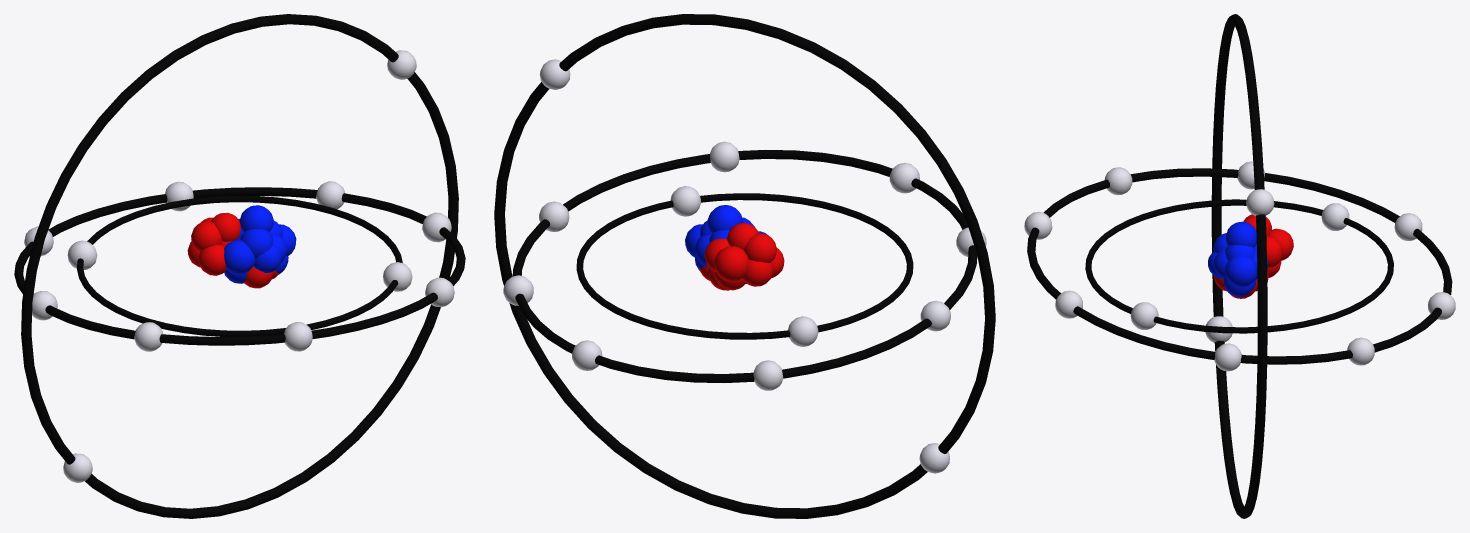
The model's file is 12 Magnesio.fbx.
3 views of the same model, side by side, from view 1: azimuth 30°, elevation 25°; view 2: azimuth 150°, elevation 25°; view 3: azimuth 270°, elevation 25° (orthographic). The views are drawn at different scales.
Visible parts, largest first — view 1: Orbita.003, Orbita.002, Orbita.001, Neutron.004, Neutron.001, Sphere.002, Electron.006, Sphere.004, Electron.003, Electron.001, Neutron.003, Electron.005 (+9 smaller); view 2: Orbita.003, Orbita.002, Orbita.001, Neutron.002, Neutron.004, Sphere.004, Electron.007, Electron, Electron.008, Electron.001, Neutron.003, Electron.010 (+7 smaller); view 3: Orbita.003, Orbita.002, Orbita.001, Neutron.003, Neutron.004, Neutron.002, Electron.009, Electron.011, Electron.001, Electron, Electron.002, Electron.003 (+4 smaller).
Part boxes in pixels (<box>): Orbita.003: <box>21,14,458,518</box>; Orbita.002: <box>14,187,465,345</box>; Orbita.001: <box>77,195,402,336</box>; Neutron.004: <box>238,205,282,258</box>; Neutron.001: <box>224,238,255,283</box>; Sphere.002: <box>198,244,226,275</box>; Electron.006: <box>284,322,312,351</box>; Sphere.004: <box>191,221,221,251</box>; Electron.003: <box>134,322,163,351</box>; Electron.001: <box>383,262,412,291</box>; Neutron.003: <box>272,224,296,274</box>; Electron.005: <box>63,453,92,482</box>; Orbita.003: <box>494,14,995,518</box>; Orbita.002: <box>512,150,977,382</box>; Orbita.001: <box>576,193,913,339</box>; Neutron.002: <box>704,238,748,290</box>; Neutron.004: <box>700,205,754,242</box>; Sphere.004: <box>744,233,776,262</box>; Electron.007: <box>710,141,739,172</box>; Electron: <box>788,316,818,346</box>; Electron.008: <box>753,360,783,390</box>; Electron.001: <box>670,186,700,216</box>; Neutron.003: <box>685,224,710,270</box>; Electron.010: <box>572,340,602,370</box>; Orbita.003: <box>1211,14,1267,518</box>; Orbita.002: <box>1027,168,1452,364</box>; Orbita.001: <box>1085,199,1393,333</box>; Neutron.003: <box>1214,249,1268,296</box>; Neutron.004: <box>1213,221,1256,260</box>; Neutron.002: <box>1266,228,1293,277</box>; Electron.009: <box>1214,343,1241,371</box>; Electron.011: <box>1246,189,1274,216</box>; Electron.001: <box>1130,302,1158,329</box>; Electron: <box>1321,203,1349,230</box>; Electron.002: <box>1347,337,1374,365</box>; Electron.003: <box>1104,167,1132,195</box>.
Bounding box in the file's own units: 10.38 × 12.11 × 12.16.
